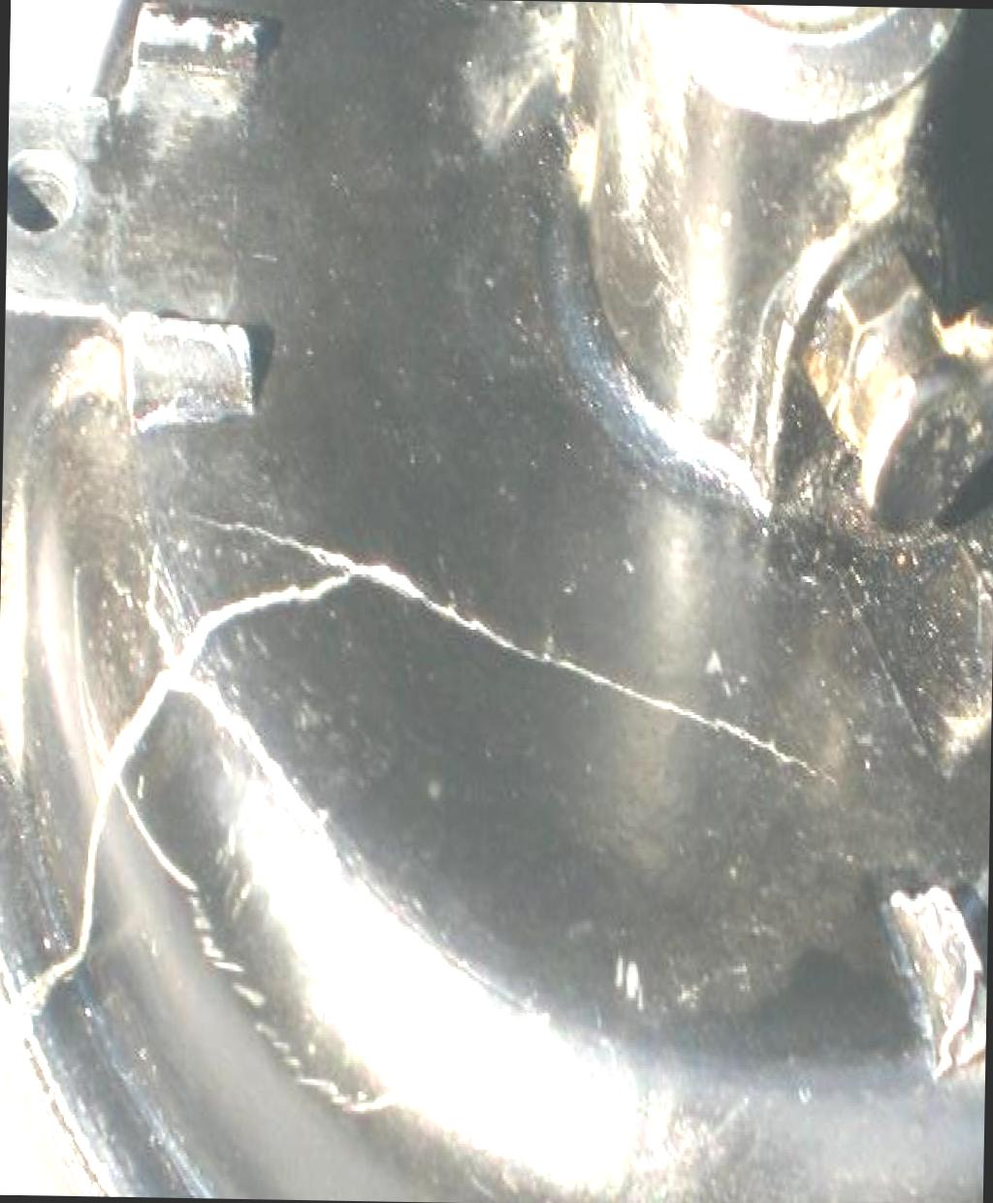crack: (5, 503, 815, 1177)
